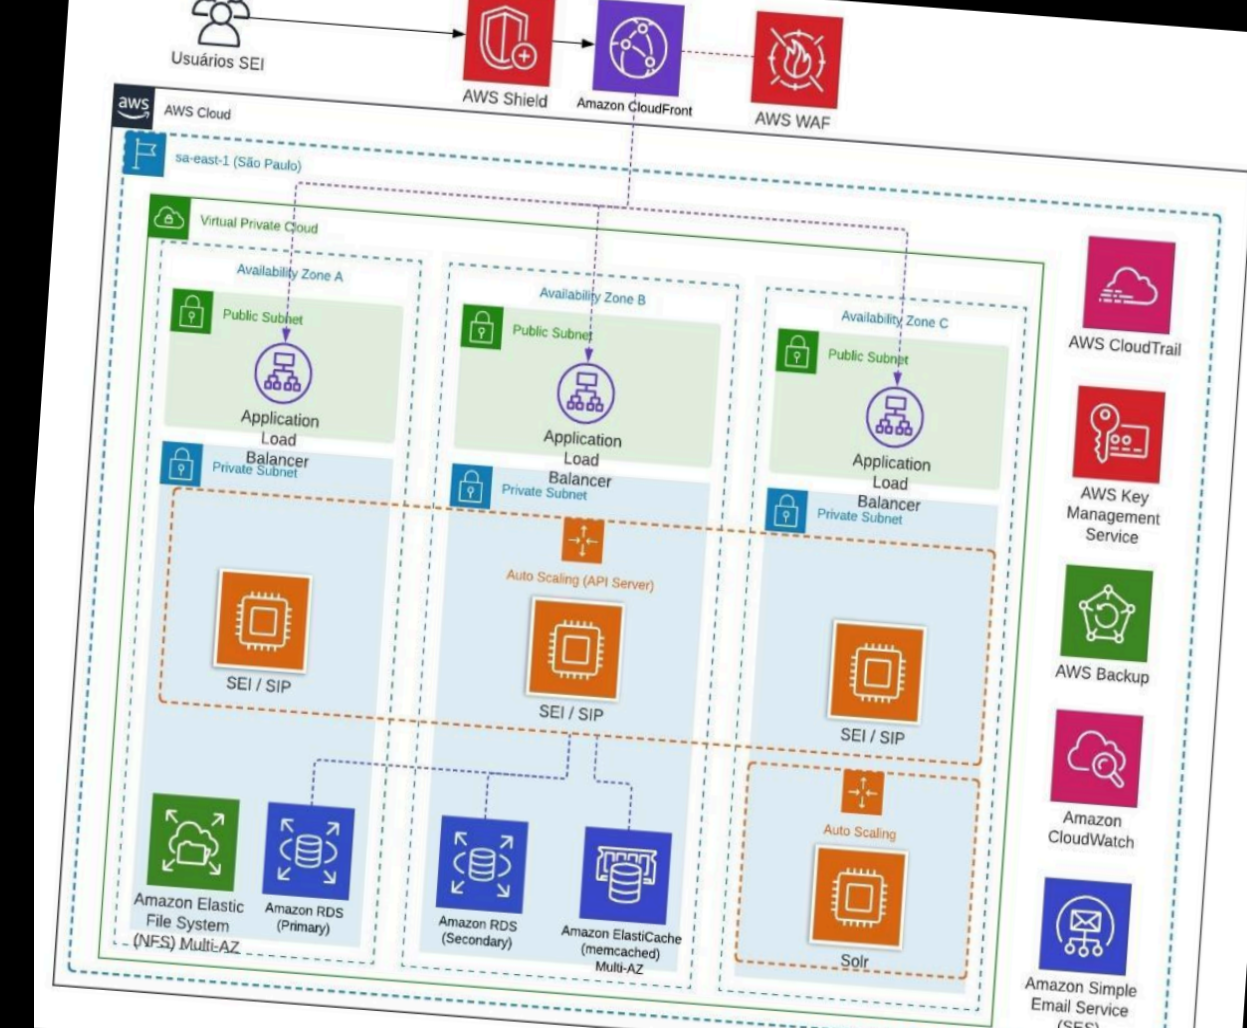aws_application_load_balancer: (859, 381, 928, 450), (549, 357, 618, 425), (247, 337, 316, 405)
aws_autoscaling: (841, 768, 883, 813), (561, 516, 602, 562)
aws_backup: (1060, 562, 1151, 660)
aws_cloud: (108, 81, 154, 125)
aws_cloud_trail: (1083, 233, 1173, 332)
aws_cloudfront: (589, 0, 684, 97)
aws_cloudwatch: (1050, 711, 1140, 807)
aws_elactic_file_system(nfs)_multi-az: (147, 792, 238, 891)
aws_elasticache: (576, 828, 671, 926)
aws_key_management_service: (1070, 384, 1165, 484)
aws_private_subnet: (763, 486, 806, 536), (450, 461, 492, 507), (160, 440, 202, 484)
aws_public_subnet: (460, 0, 555, 88), (167, 285, 213, 334), (459, 302, 502, 350), (775, 327, 816, 372)
aws_rds: (436, 815, 527, 909), (264, 802, 354, 895)
aws_region: (120, 128, 167, 176)
aws_simple_email_service: (1038, 877, 1131, 977)
aws_virtual_private_cloud: (147, 194, 191, 240)
aws_waf: (744, 5, 845, 111)
sei/sip: (525, 594, 622, 698), (827, 617, 923, 721), (213, 567, 310, 671)
solr: (811, 844, 903, 941)
user: (180, 0, 258, 49)
